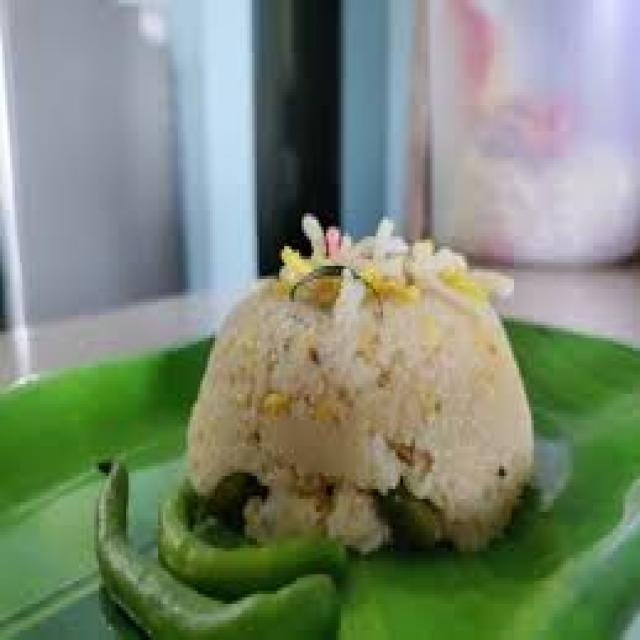UPMA: (185, 220, 531, 545)
